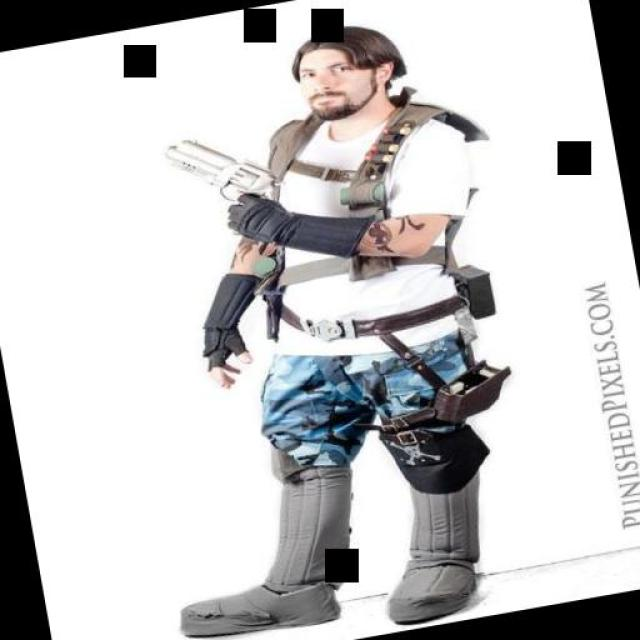gun: (152, 111, 286, 226)
